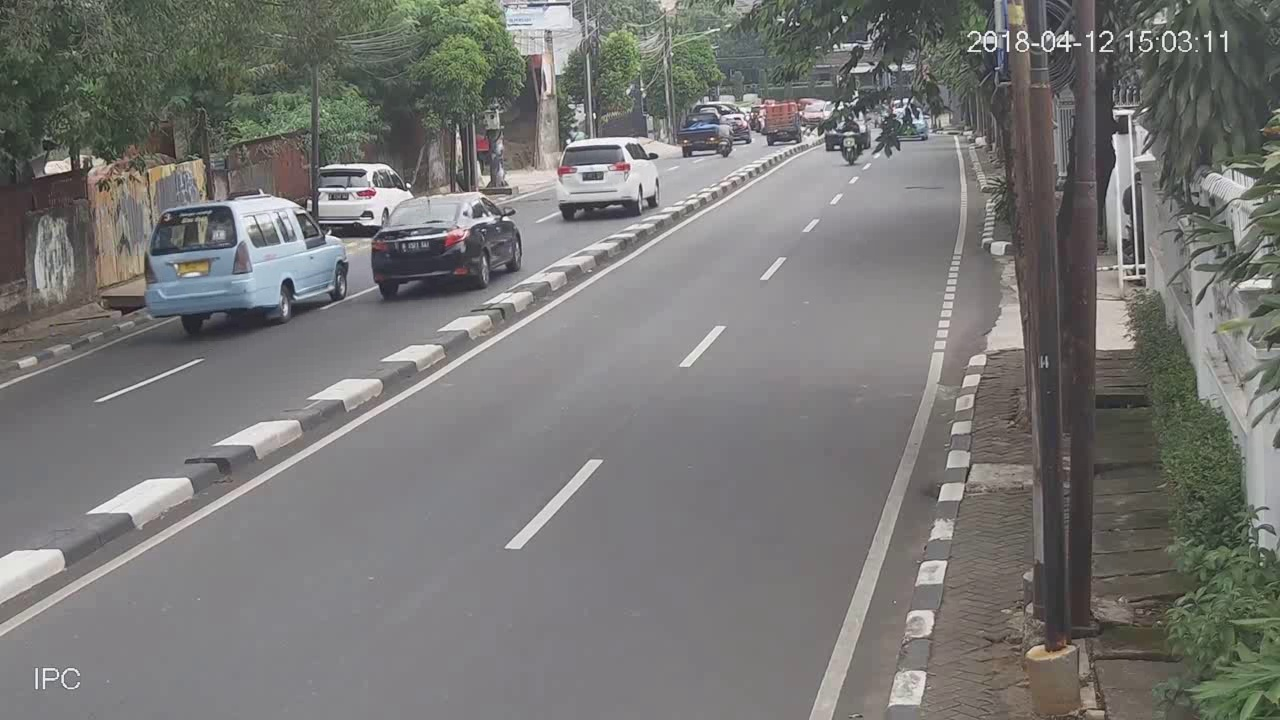car: (141, 193, 351, 339), (364, 191, 524, 298), (551, 139, 663, 219), (307, 165, 378, 225)
